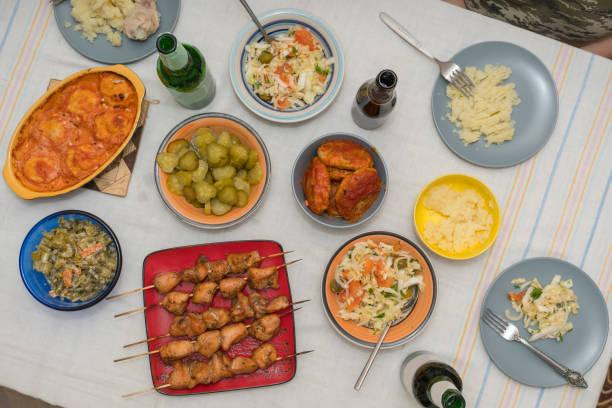Braised Crucian Carp: (142, 237, 299, 400), (8, 61, 152, 197), (320, 232, 437, 349), (153, 112, 269, 229), (228, 8, 343, 126), (17, 209, 120, 309), (291, 131, 388, 230), (413, 173, 500, 260)
